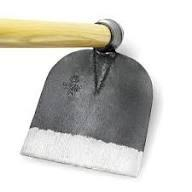HOUE: (1, 8, 192, 177)
